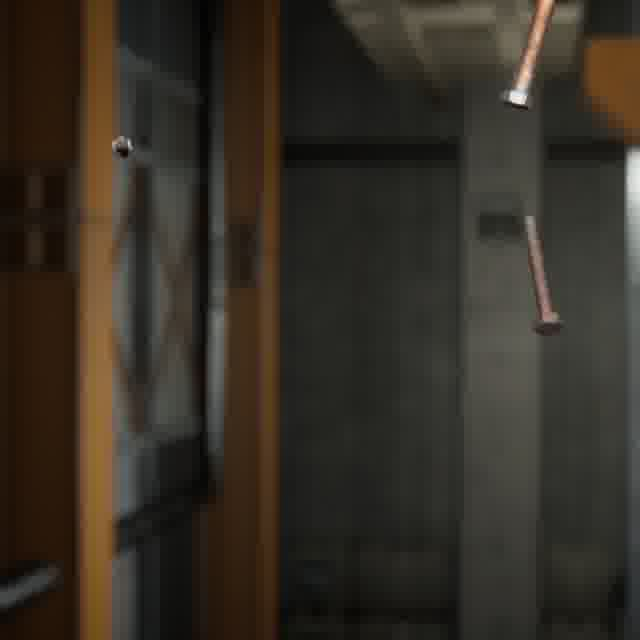bolt: (496, 0, 561, 114), (518, 211, 567, 339), (106, 131, 137, 161)
